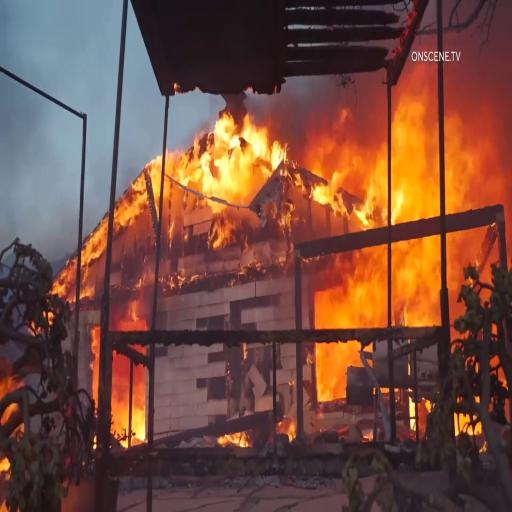fire: (372, 82, 503, 215), (354, 234, 479, 324), (172, 96, 279, 197)
